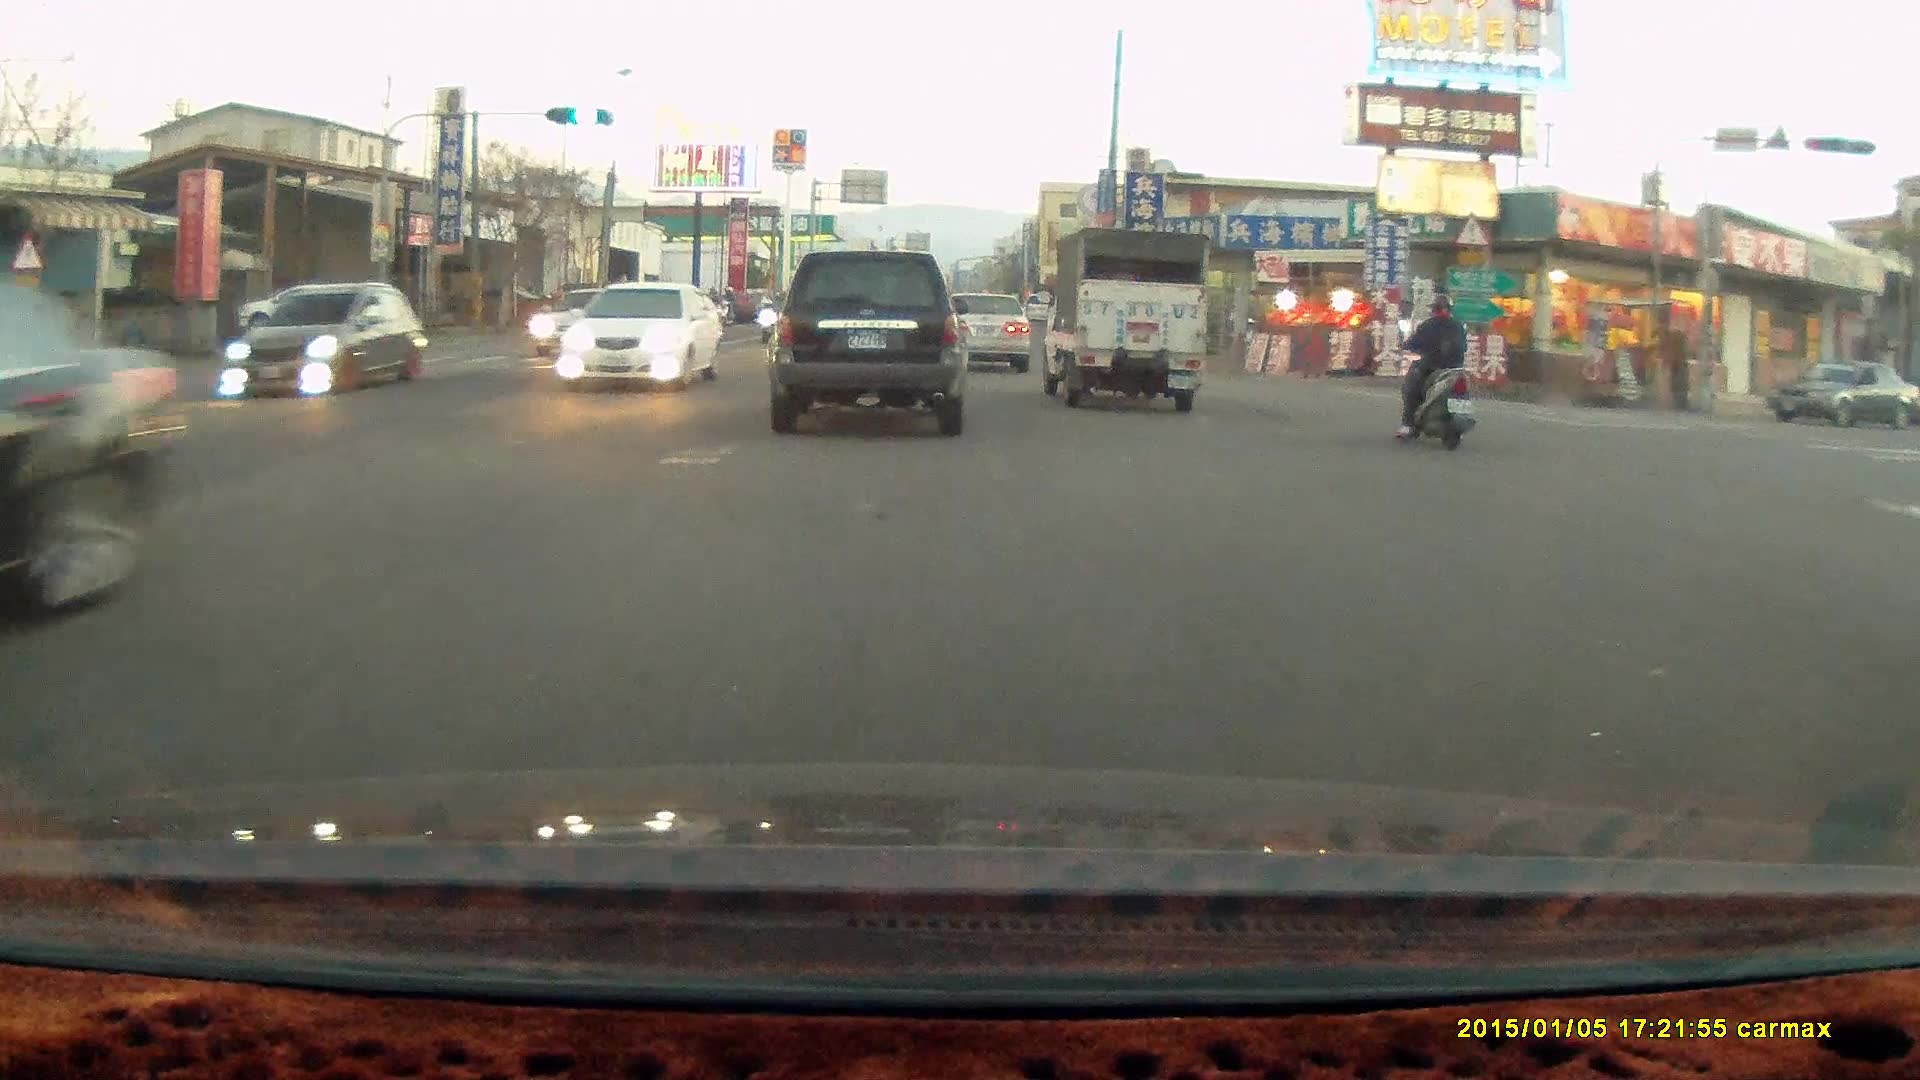rider: (1391, 289, 1477, 448)
vehicle: (767, 249, 970, 436), (1039, 226, 1210, 412), (222, 282, 431, 395), (561, 284, 725, 391), (1768, 360, 1917, 432), (535, 287, 651, 368), (931, 289, 1030, 375), (941, 293, 1035, 376), (238, 285, 376, 334)
